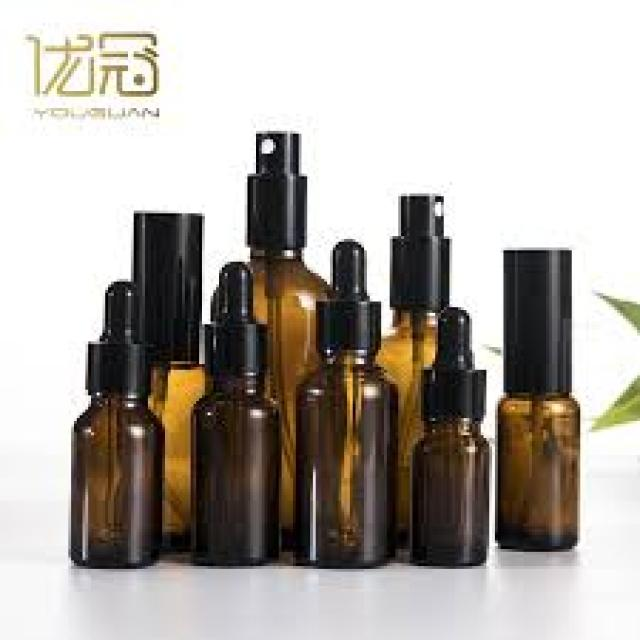glass: (219, 245, 333, 552), (293, 347, 395, 566), (188, 370, 276, 566), (373, 304, 438, 549), (71, 390, 159, 563), (495, 393, 577, 549), (145, 358, 205, 549), (410, 418, 484, 566)
plastic: (498, 248, 569, 401), (128, 208, 199, 361), (85, 276, 154, 392), (313, 236, 378, 350), (202, 259, 264, 375), (421, 310, 484, 421), (387, 191, 446, 307), (245, 131, 304, 247)
